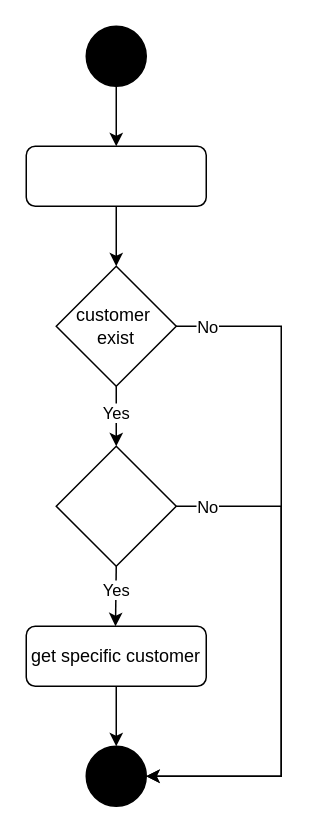
This 320x833 diagram has some shape labels left out. The centre of each missing label's shape, as x and y in pixels:
get all customer: the point at 115,505
get customer request: the point at 115,175
